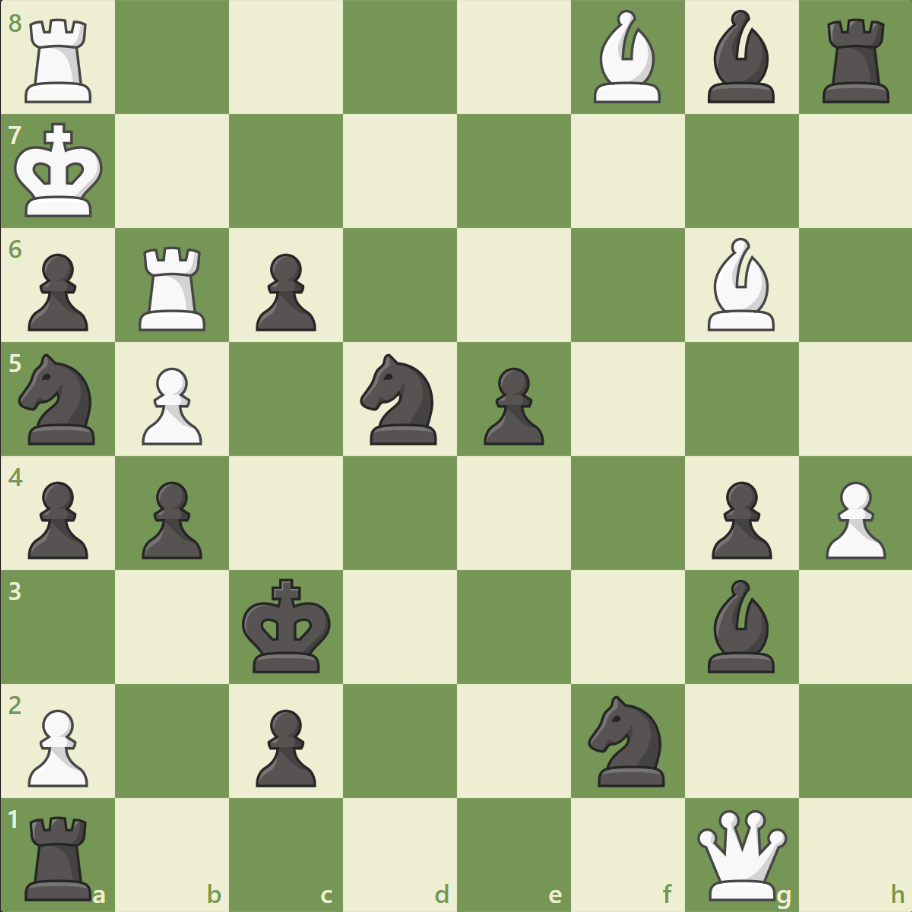B: (585, 6, 669, 109), (698, 233, 782, 336)
K: (11, 117, 111, 225)
P: (133, 359, 208, 450), (20, 700, 95, 791), (815, 473, 889, 564)
Q: (691, 804, 790, 903)
R: (19, 12, 102, 109), (133, 239, 215, 336)
b: (698, 6, 782, 109), (698, 574, 782, 676)
k: (238, 571, 338, 679)
n: (351, 348, 449, 450), (579, 688, 676, 791), (11, 348, 108, 450)
p: (20, 246, 95, 337), (247, 246, 322, 337), (474, 359, 549, 450), (20, 473, 95, 564), (133, 473, 208, 564), (701, 473, 776, 564), (247, 700, 322, 791)
r: (19, 806, 102, 904), (814, 12, 897, 109)
